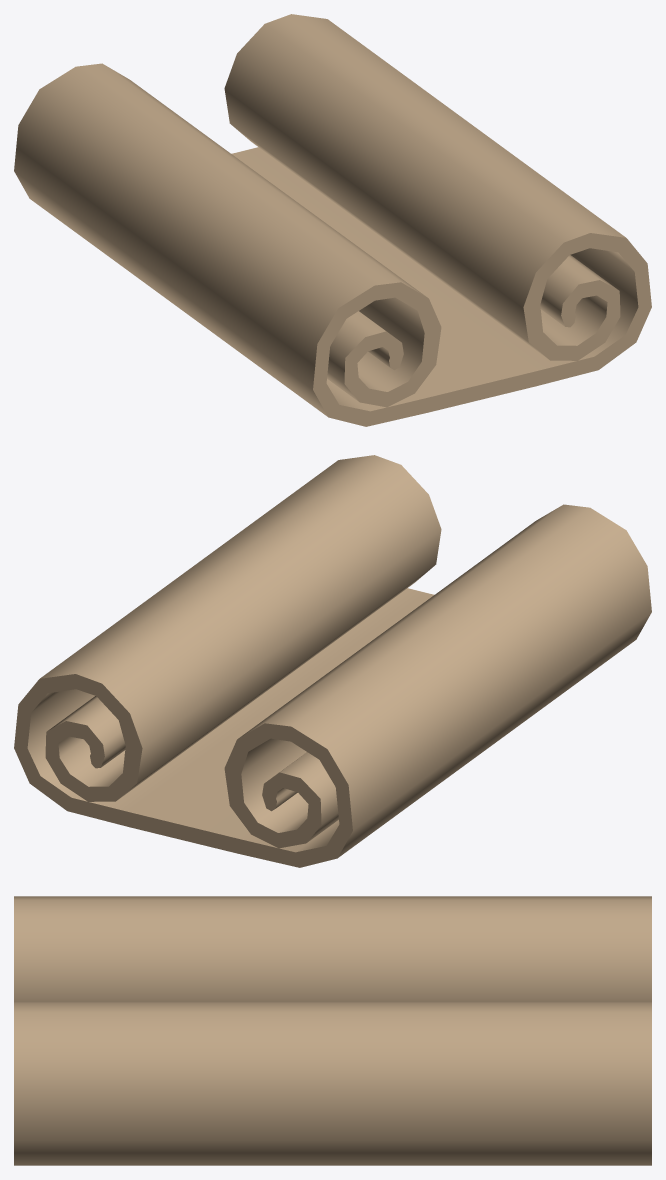
The model's file is Scroll_02_SlightlyOpen.fbx.
3 renders of one model, top to bottom at view 1: azimuth 30°, elevation 25°; view 2: azimuth 150°, elevation 25°; view 3: azimuth 270°, elevation 25°, orthographic. The views are drawn at different scales.
Visible parts, largest first — view 1: Scroll_02_SlightlyOpen; view 2: Scroll_02_SlightlyOpen; view 3: Scroll_02_SlightlyOpen.
Part boxes in pixels (x1=…): Scroll_02_SlightlyOpen: x1=14, y1=14, x2=651, y2=426; Scroll_02_SlightlyOpen: x1=14, y1=455, x2=651, y2=867; Scroll_02_SlightlyOpen: x1=14, y1=896, x2=651, y2=1165.
Bounding box in the file's own units: 0.1606 × 0.0635 × 0.2453.
